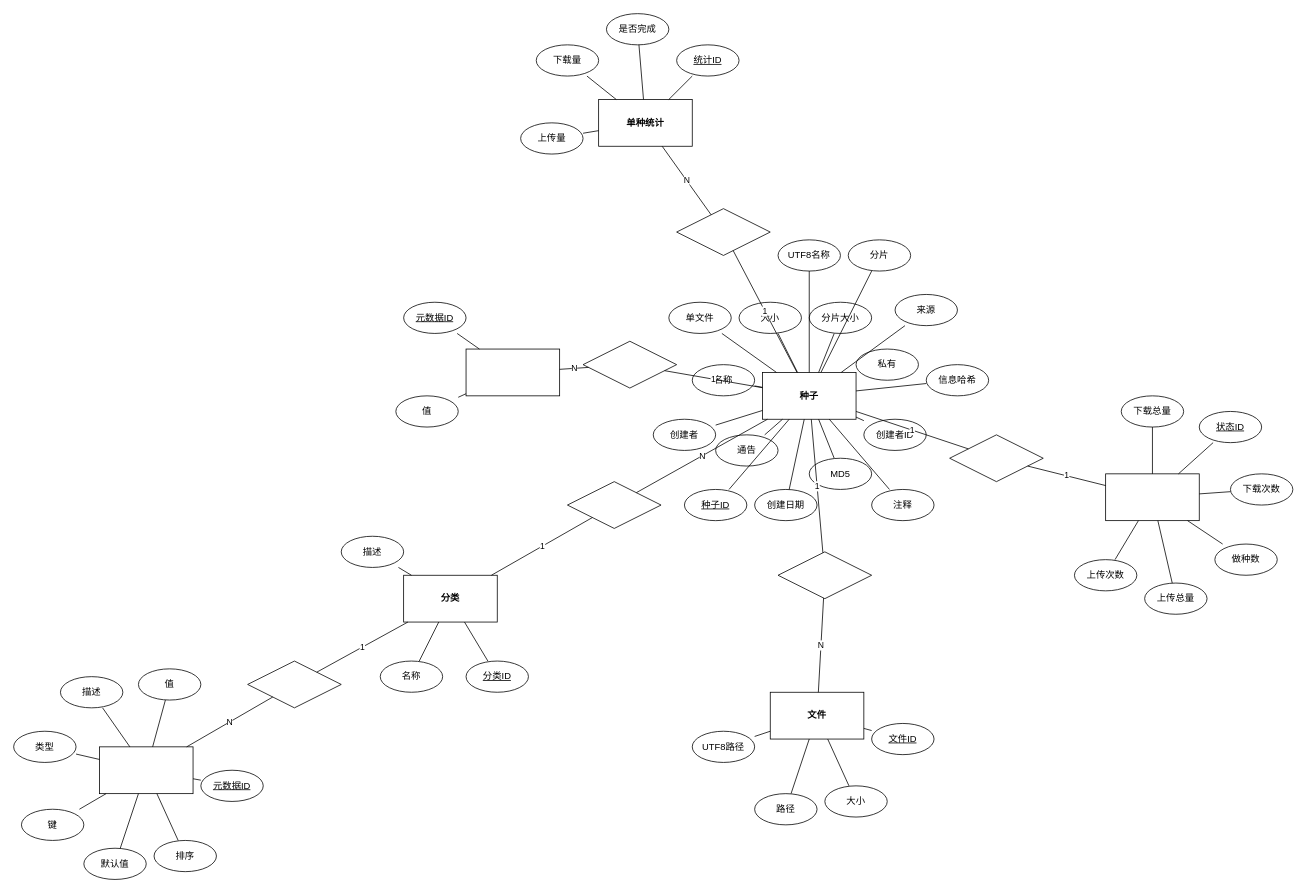
Some shapes in this 1307 by 893 pixel diagram are drawn without their labels. Each missing label, with the box of its shape:
元数据: (99, 746, 193, 794)
分类元数据关系: (247, 660, 341, 708)
种子元数据: (465, 348, 560, 396)
种子元数据关系: (582, 340, 677, 388)
种子分类关系: (567, 481, 661, 528)
种子单种统计关系: (676, 208, 770, 255)
种子文件关系: (777, 551, 872, 599)
种子状态: (1105, 473, 1199, 521)
种子状态关系: (949, 434, 1043, 482)
